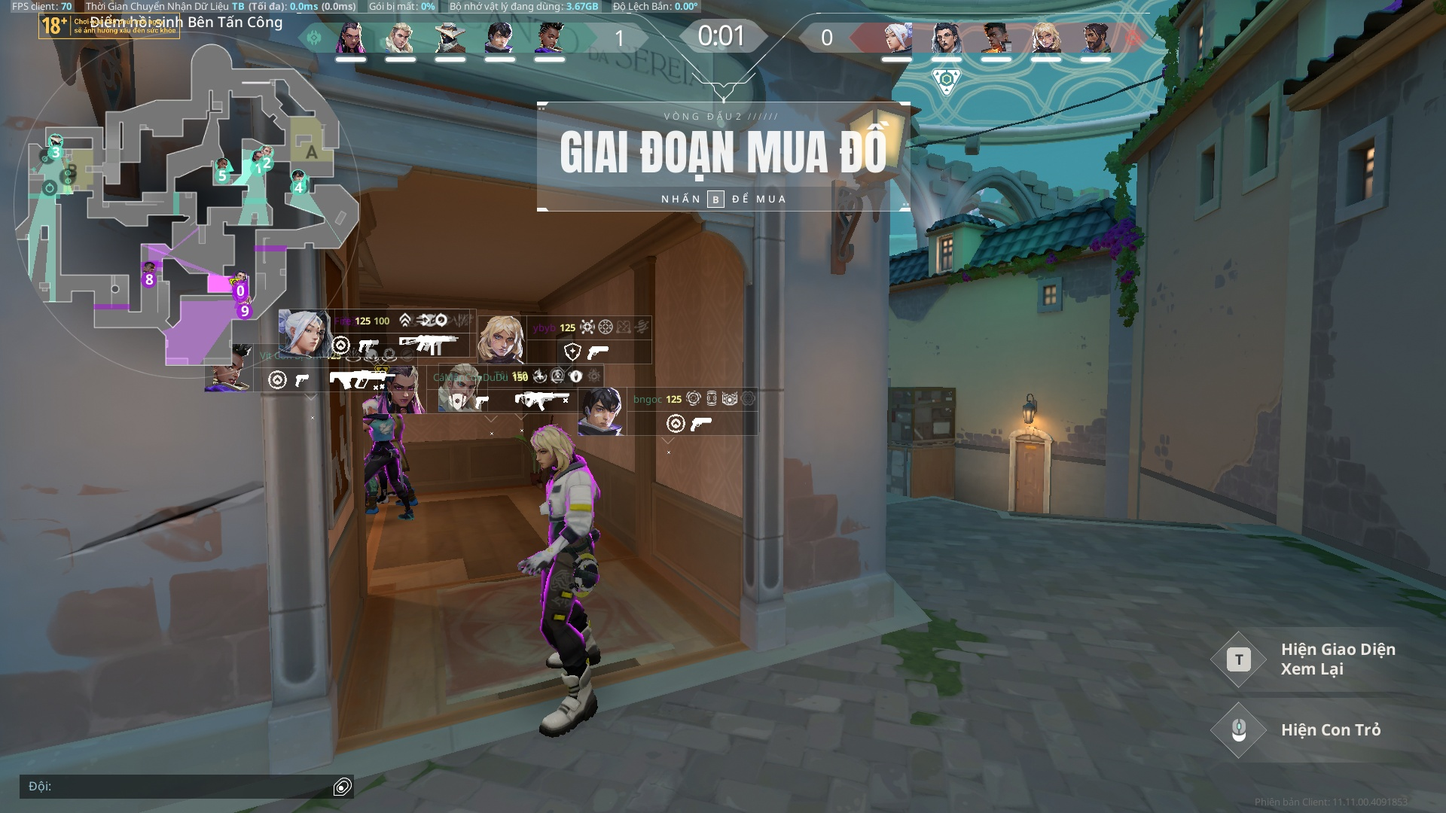body: (542, 465, 599, 543), (367, 417, 397, 450), (391, 410, 405, 444)
head: (529, 423, 574, 473), (362, 398, 386, 419)
